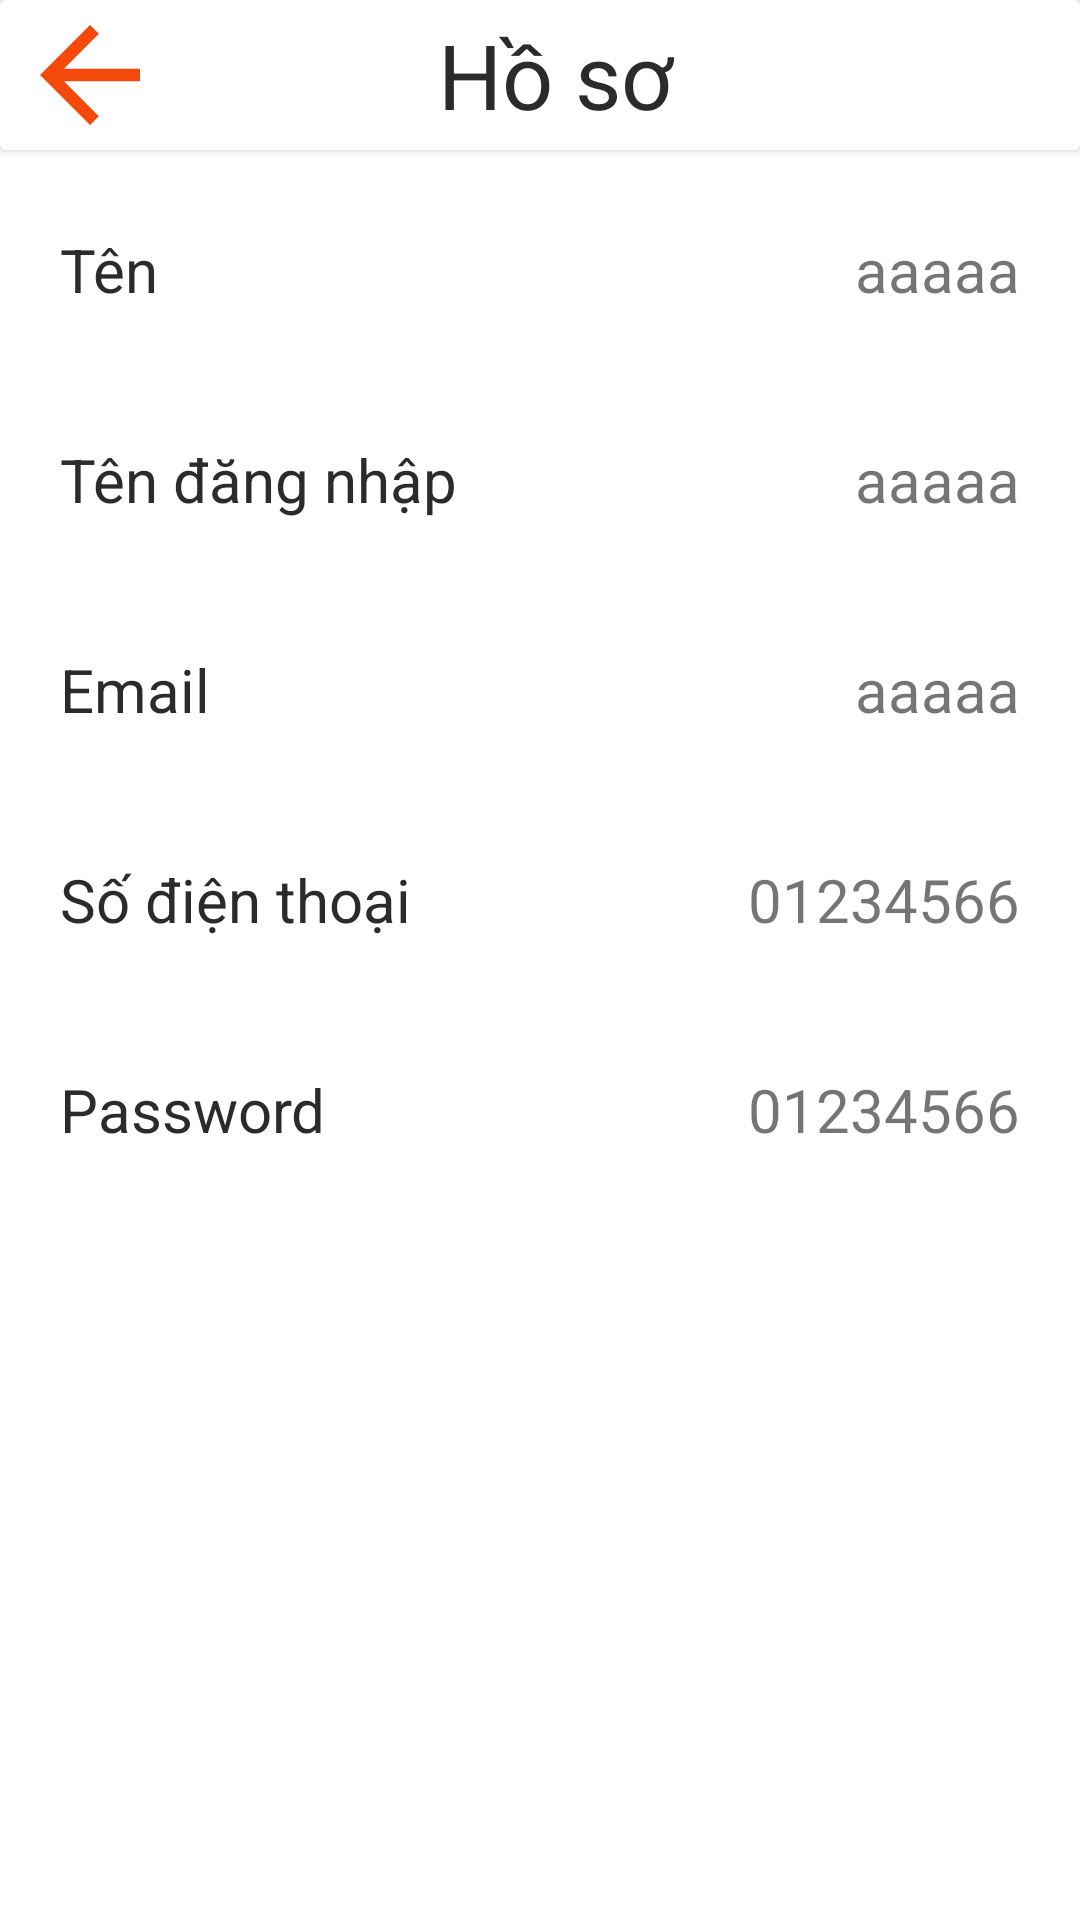

Where icons sit on this 1080*1920 app screen, as (x1, y1, x2, y2):
back: (0, 1, 140, 150)
